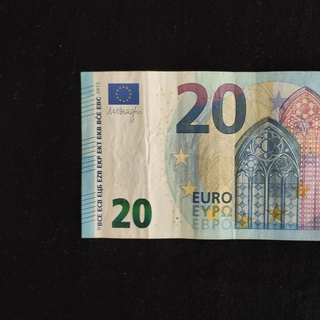20EUROFront: (78, 70, 320, 244)
